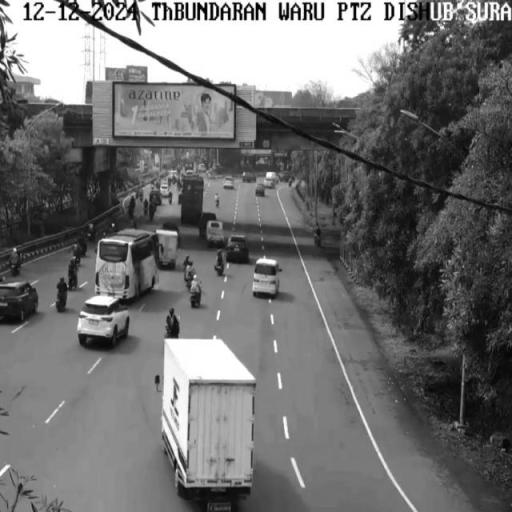bus: (97, 230, 157, 298)
car: (79, 296, 131, 348), (0, 280, 39, 323), (255, 256, 279, 298), (228, 235, 250, 261)
motorcycle: (56, 288, 69, 313), (214, 256, 228, 276), (162, 322, 180, 336), (192, 286, 202, 311), (7, 260, 21, 274), (67, 274, 80, 288)
truck: (159, 336, 257, 506), (181, 177, 205, 223), (156, 229, 180, 268), (207, 220, 224, 246)
